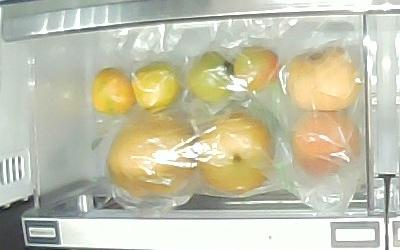peach_vinyl: (288, 47, 359, 111), (293, 111, 362, 176)
pear_vinyl: (107, 117, 195, 200), (197, 113, 274, 195)
tangerine_vinyl: (132, 62, 181, 113), (93, 68, 138, 114)
tomato_vinyl: (189, 53, 233, 103), (233, 48, 280, 92)
